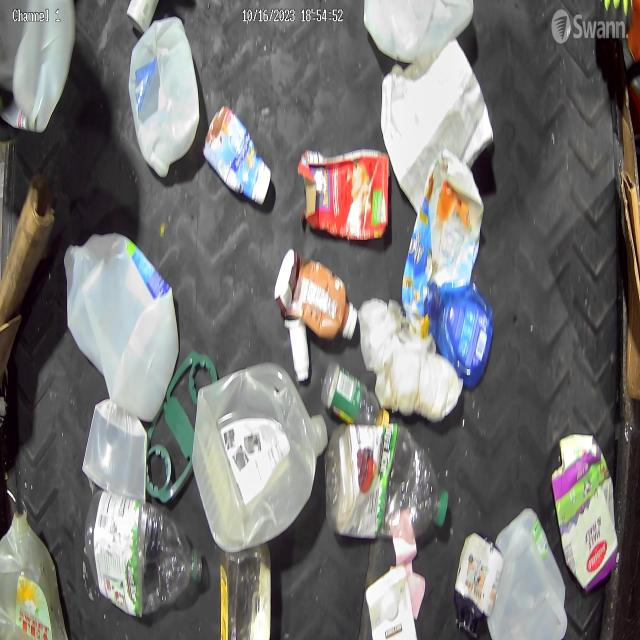milk_jug: (192, 364, 328, 554), (63, 231, 179, 423), (380, 40, 494, 217), (128, 17, 200, 179), (487, 505, 567, 640), (0, 0, 77, 132), (0, 513, 69, 640), (362, 0, 474, 66)
non_white_jug: (401, 151, 483, 334)
plastic_bottle: (326, 420, 448, 539), (85, 499, 203, 616), (221, 544, 271, 640), (320, 362, 390, 426)
